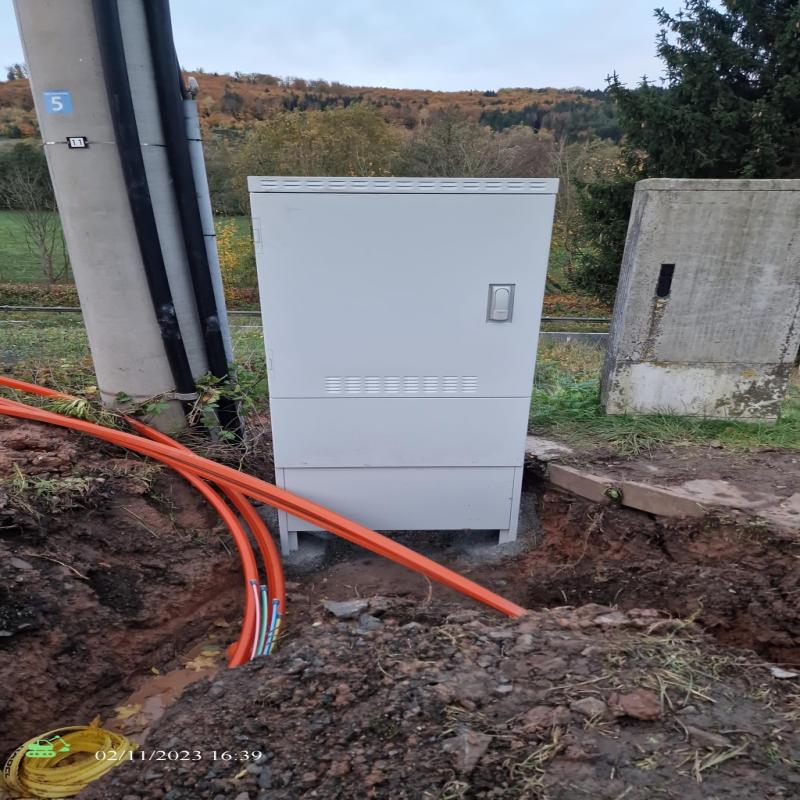NT-Gehause: (249, 177, 555, 515)
Orang-Speednetrohrchen: (0, 397, 526, 666)
